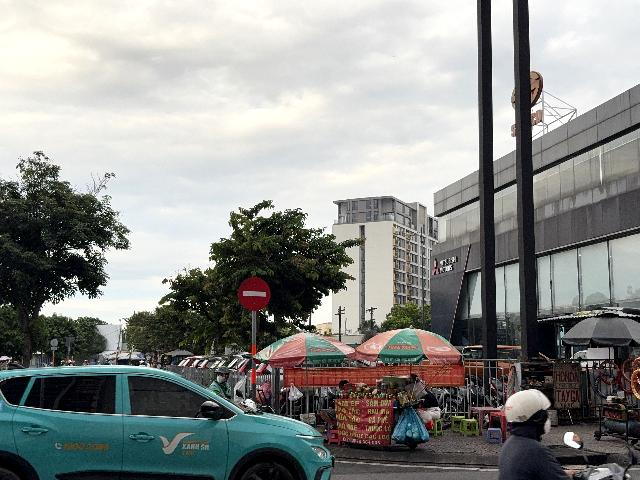cam-di-nguoc-chieu: (238, 277, 271, 311)
